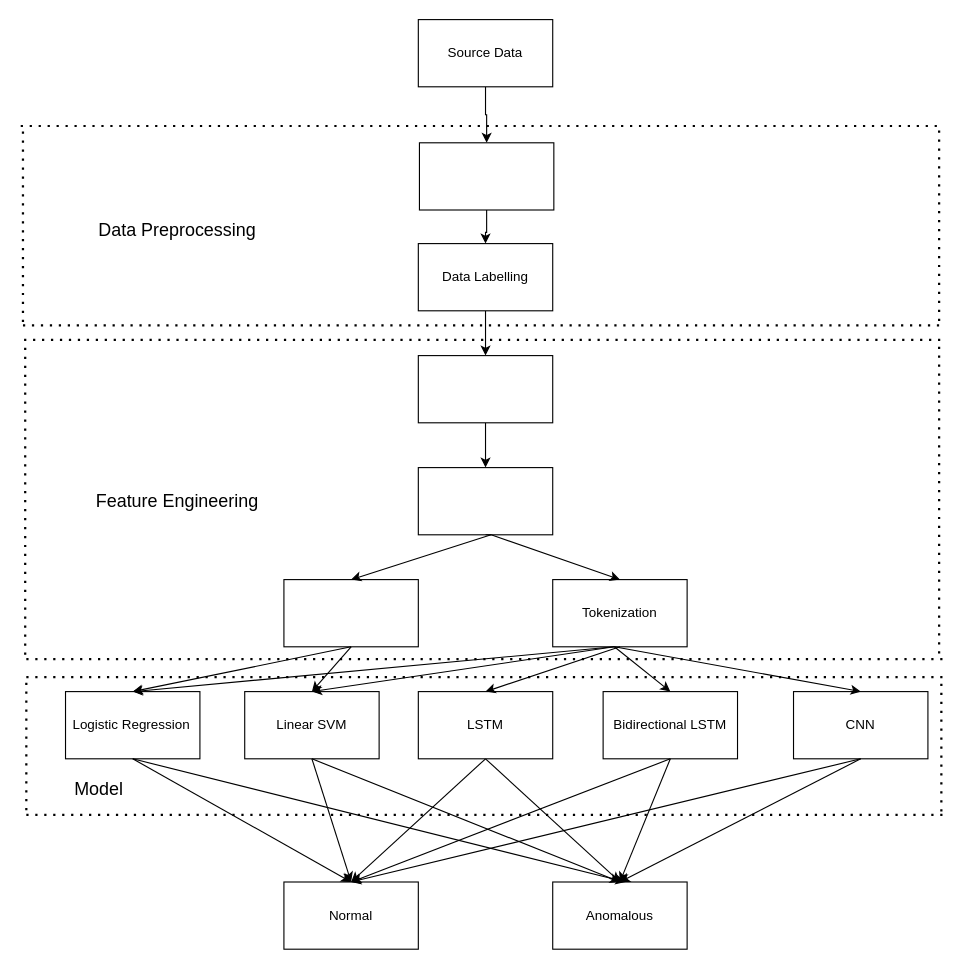
The diagram is 965 pixels wide and 969 high, and some of its shapes have lost their labels. Here are the shapes that lost their labels. From the top down, the centre of each, then its label:
At [486,176]: "Data Formatting and Feature Selection".
At [485,388]: "Feature Extraction".
At [485,500]: "Feature Scaling".
At [350,612]: "TF-IDF Vectorizer".
